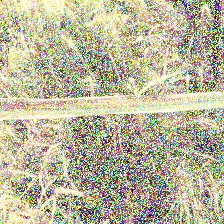Leaf_Blast: (8, 91, 204, 115)
